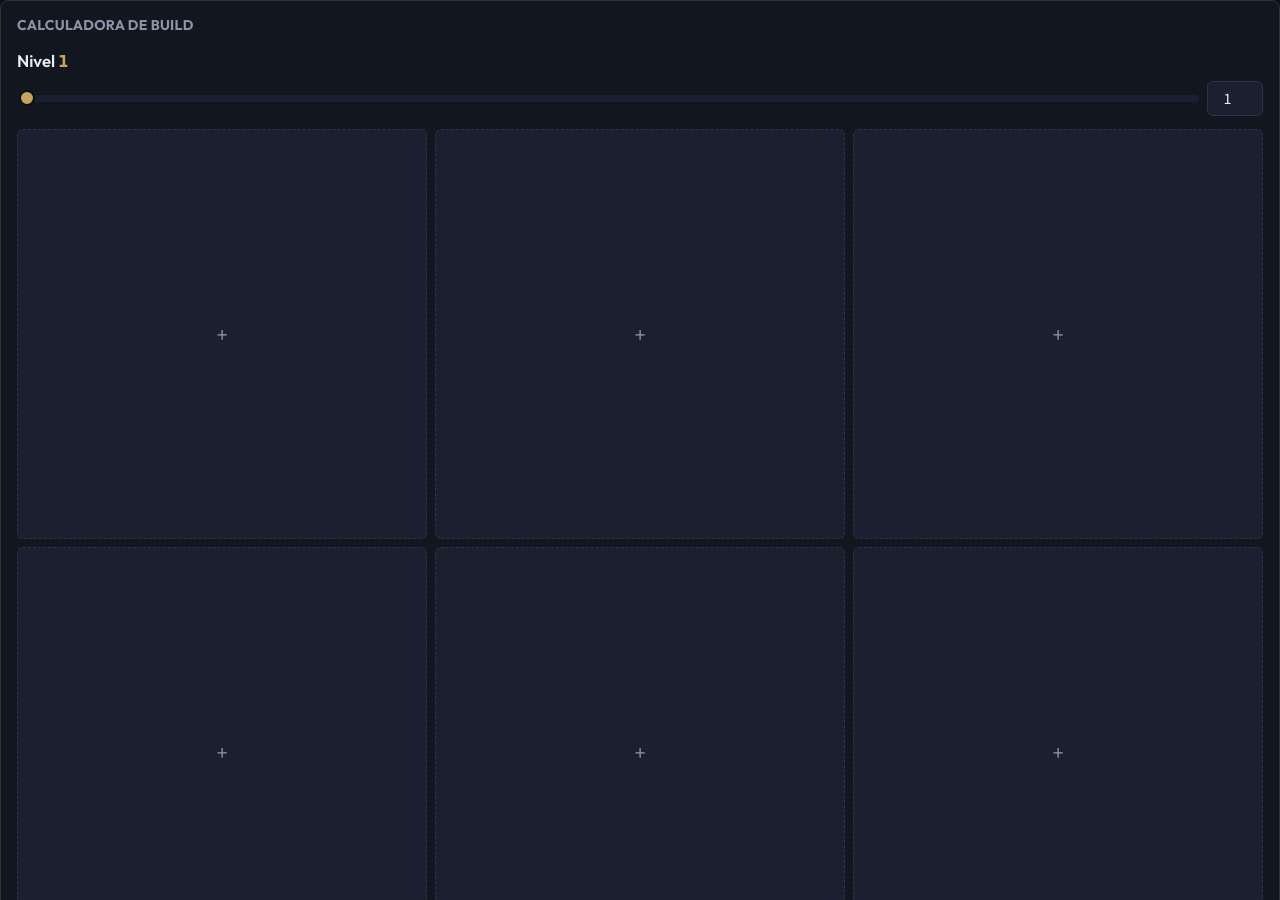
Test: BuildCalculator › suma el bonus de ítems y muestra campeón + ítems
Check: the text "1" is shown, box x1=58 y1=50 x2=68 y2=71
Click the button with test id "build-slot-0" at (222, 334), box x1=17 y1=129 x2=427 y2=539
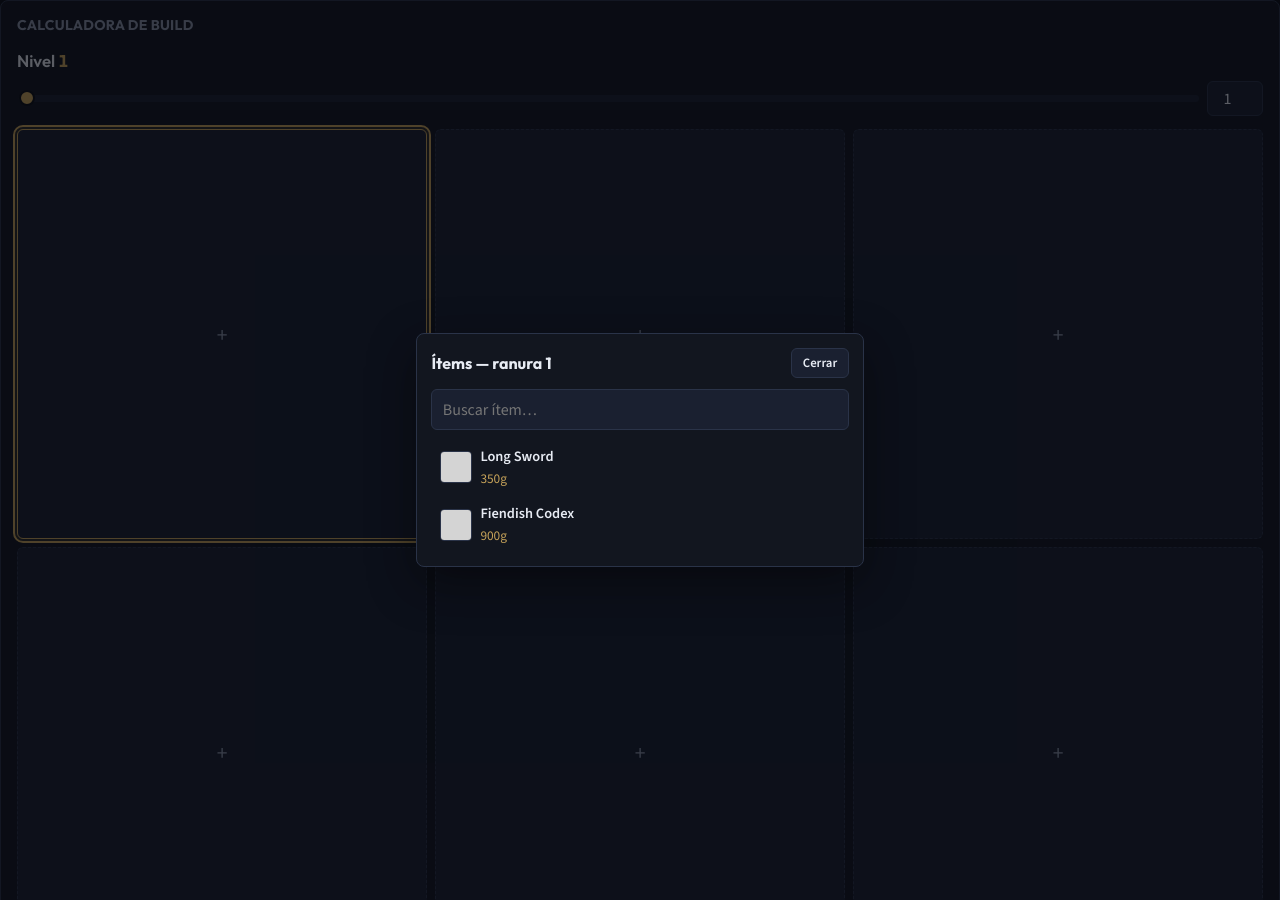
Check: the dialog with test id "item-picker" is shown
Click the button with test id "pick-item-1036" at (456, 467), box x1=431 y1=440 x2=849 y2=494
(page scrolled)
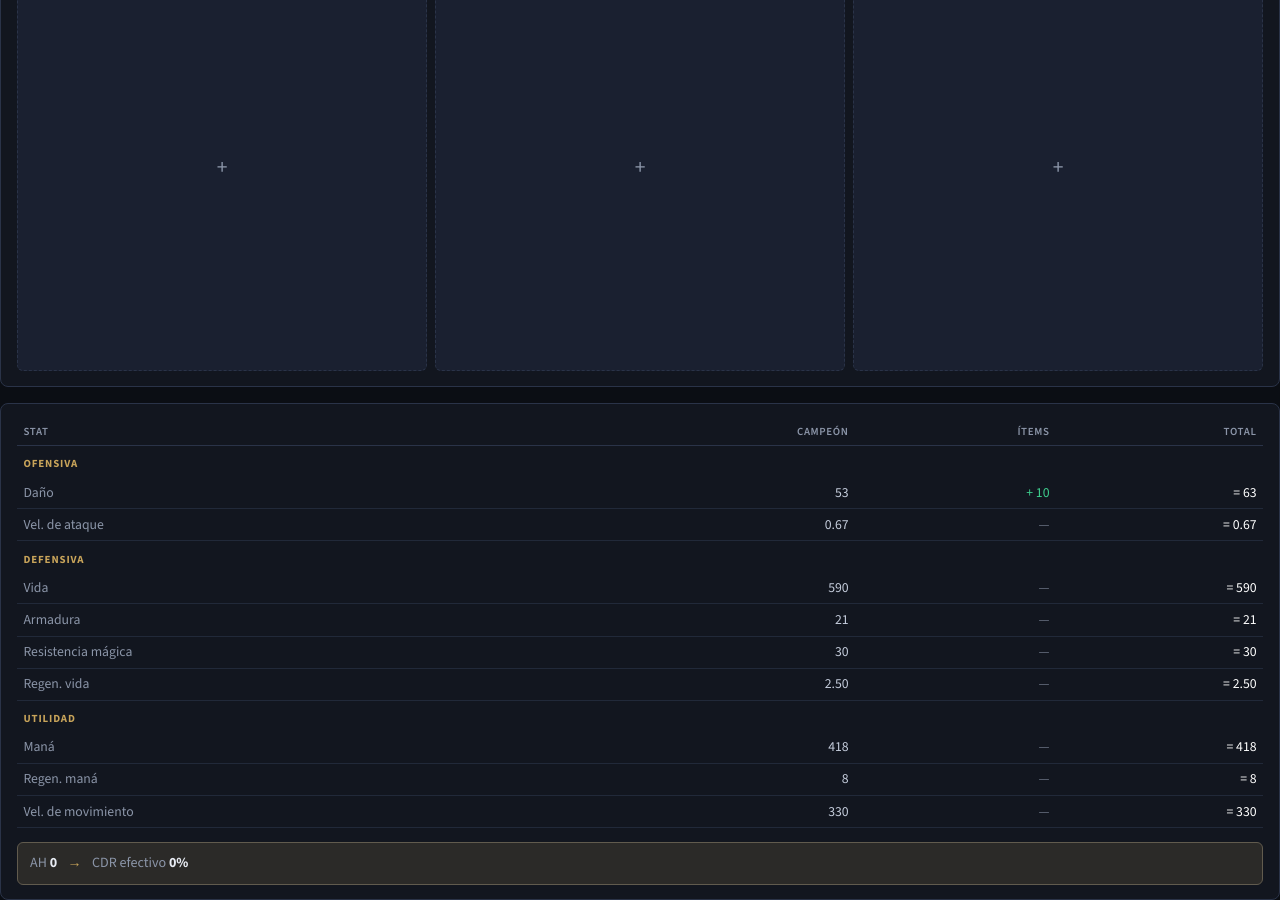
Check: the dialog with test id "item-picker" is gone
Check: the cell with test id "stat-attackDamage-items" reads "+ 10", box x1=1026 y1=483 x2=1050 y2=501
Check: the text "= 63" is shown, box x1=1056 y1=477 x2=1263 y2=509
